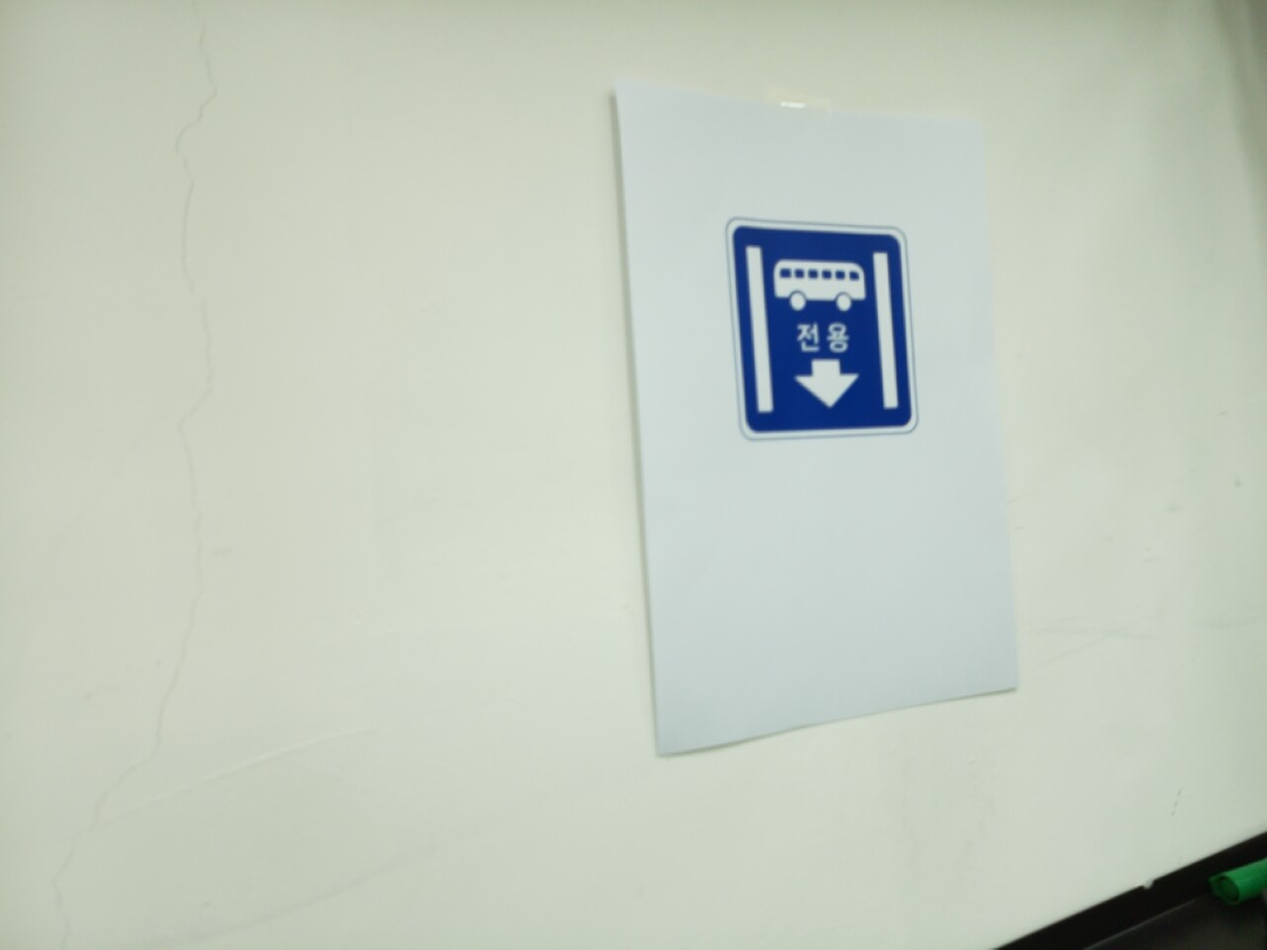bus_only_lane: (726, 218, 919, 440)
